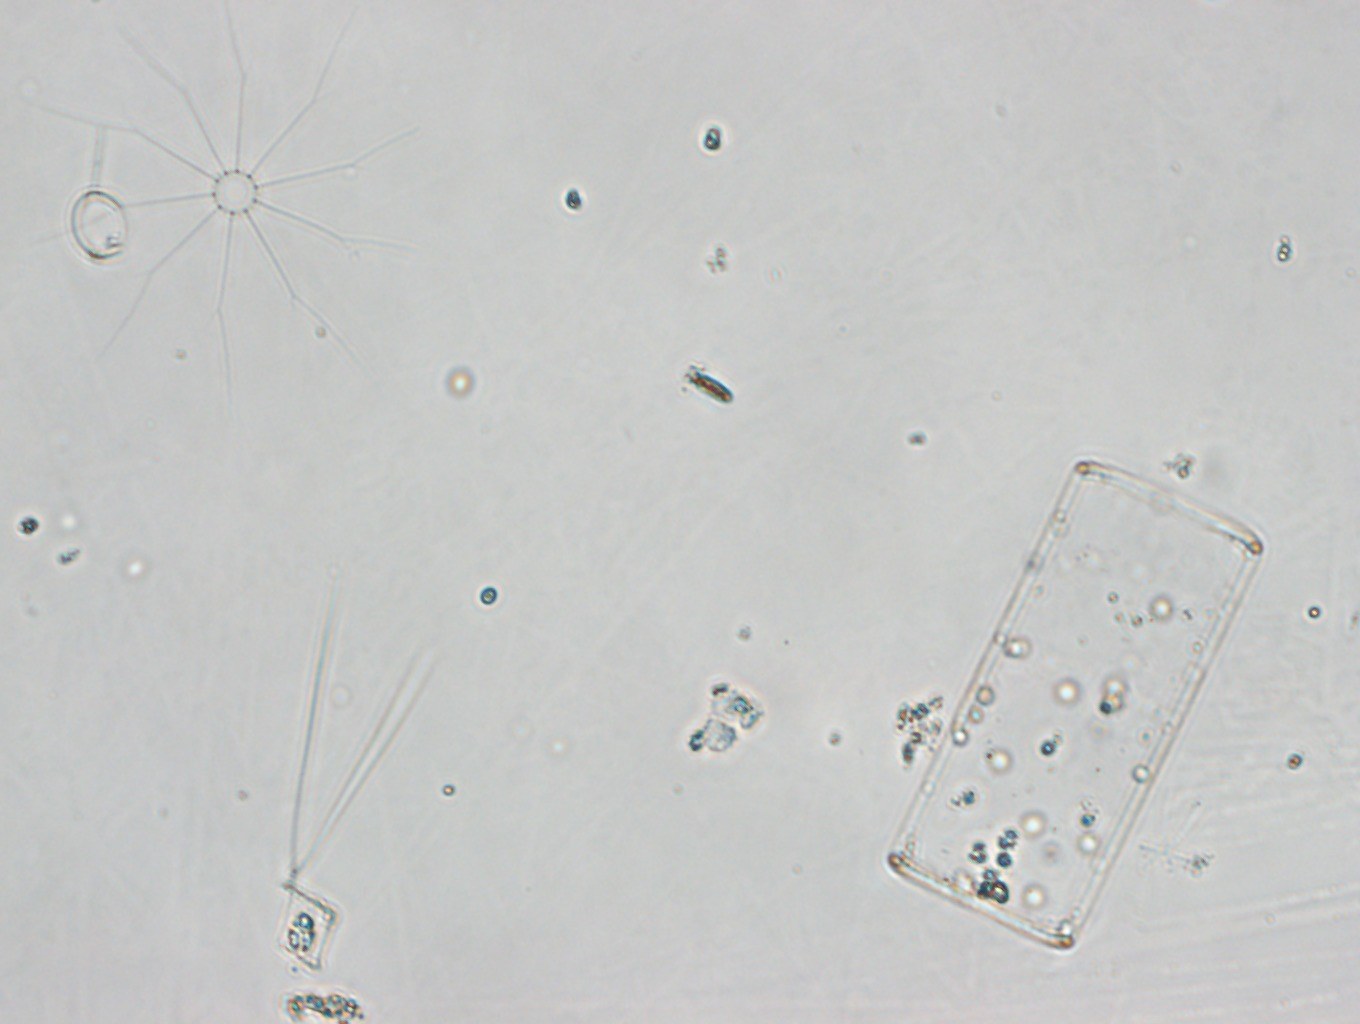bacteriastrum: (31, 15, 414, 359)
chaetoceros: (250, 596, 416, 982)
guinardia flaccida: (887, 453, 1275, 955)
